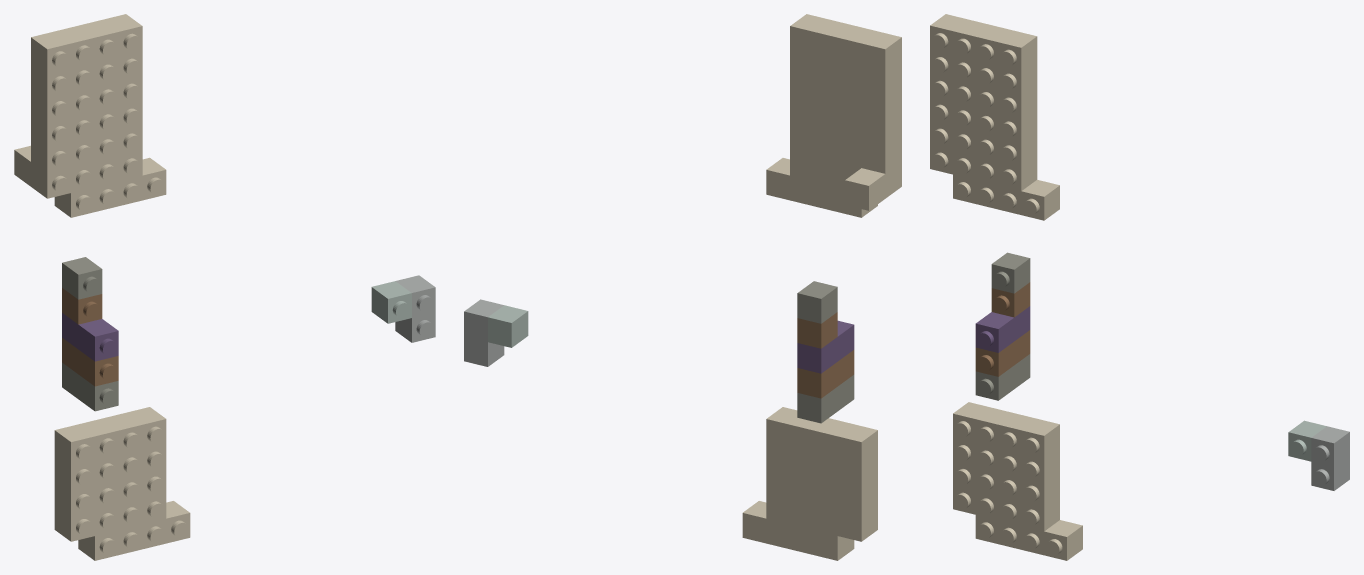
The model's file is full.glb.
3 renders of one model, left to right at view 1: azimuth 30°, elevation 25°; view 2: azimuth 150°, elevation 25°; view 3: azimuth 330°, elevation 25°, orthographic. The views are drawn at different scales.
Visible parts, largest first — view 1: world; view 2: world; view 3: world.
Part boxes in pixels (box(x1,y1,x2,y2)): world: box(14, 14, 435, 560); world: box(464, 14, 901, 560); world: box(930, 14, 1349, 560).
Bounding box in the file's own units: 136 × 168 × 21.
